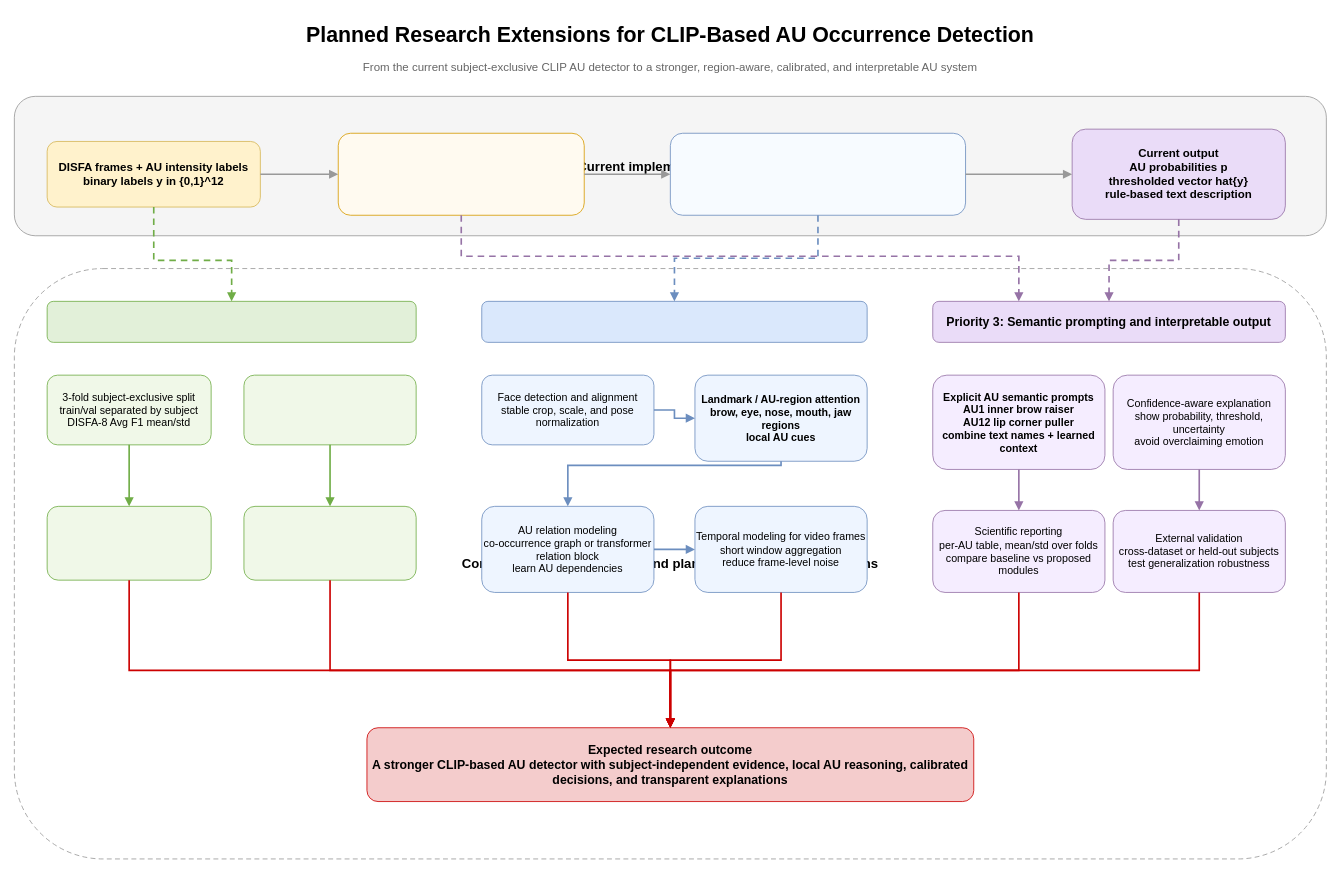
This 1341x873 diagram has some shape labels left out. Here are the shapes that lost their labels. From the top down, the centre of each, then its label:
At point (460, 173): "Stage I CLIP image-text AU alignment learn T_AU prompt embeddings".
At point (818, 173): "Stage II CLIP ViT-B/16 + BNNeck + AUHead Weighted BCE + 0.1 L_ITC".
At point (231, 321): "Completed v1: Scientific evaluation protocol".
At point (674, 321): "Priority 2: Region-aware and relation-aware AU model".
At point (329, 409): "Data-safe training setup separate train/val transforms train-fold pos_weight".
At point (128, 543): "Robust AU evaluator macro/micro F1, AUROC per-AU precision, recall, F1".
At point (329, 543): "Threshold calibration AU-specific thresholds selected on validation set only".
